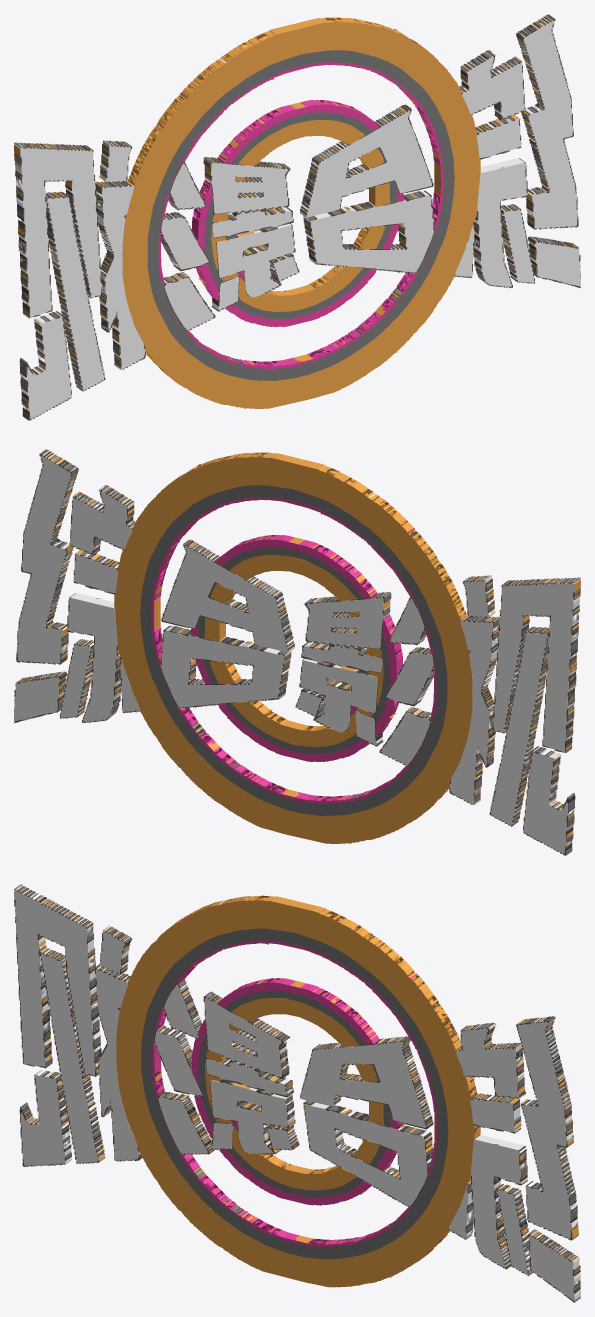
File: zong3.glb
The picture shows the model from 3 angles, top to bottom: view 1: azimuth 30°, elevation 25°; view 2: azimuth 150°, elevation 25°; view 3: azimuth 330°, elevation 25°; orthographic projection.
Visible parts, largest first — view 1: path0; view 2: path0; view 3: path0.
Part boxes in pixels (x1,y1,x2,y2): path0: (14, 14, 580, 420); path0: (14, 449, 580, 855); path0: (14, 884, 580, 1302).
Size of the model in its own units: 0.8867 by 0.5641 by 0.0177.
